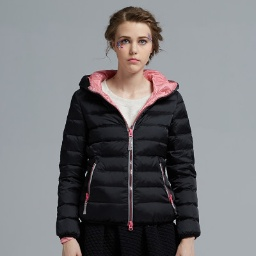face: (100, 5, 164, 75)
